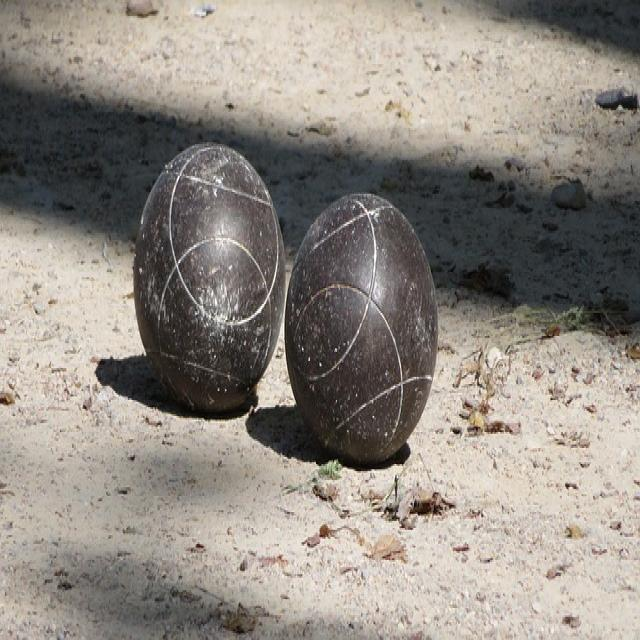petanque: (276, 187, 446, 469), (129, 138, 289, 431)
